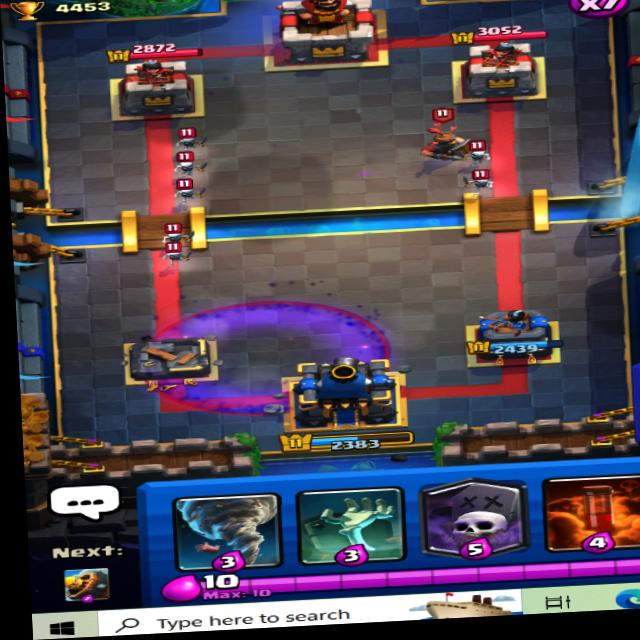Graveyard: (144, 284, 402, 426)
Royalrecruits: (408, 115, 474, 173)
Skeleton: (459, 138, 497, 167), (157, 235, 191, 267), (167, 150, 205, 178), (160, 177, 202, 201), (156, 219, 192, 247), (174, 123, 210, 150), (468, 168, 499, 191)
